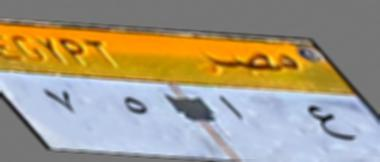5: (120, 90, 150, 123)
7: (44, 82, 76, 118)
ain: (303, 98, 355, 150)
alif: (215, 93, 246, 130)
